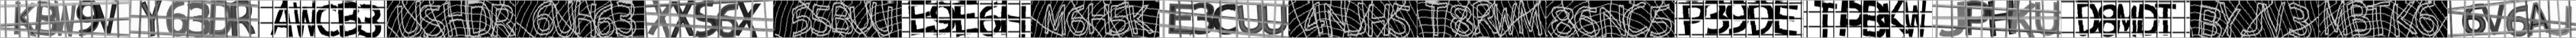3: (187, 2, 209, 38), (1704, 2, 1727, 35), (2290, 3, 2311, 38), (358, 5, 379, 38), (1193, 2, 1214, 35), (616, 2, 636, 36)
4: (1304, 3, 1324, 33)
5: (1388, 3, 1411, 36), (1649, 5, 1671, 38), (792, 3, 810, 38), (810, 5, 830, 36), (1109, 5, 1129, 35)
6: (166, 0, 189, 36), (2415, 3, 2440, 36), (532, 2, 554, 36), (716, 3, 738, 38), (1574, 7, 1598, 36), (979, 3, 1000, 36), (2463, 5, 2486, 35), (2507, 7, 2528, 38), (595, 3, 614, 36), (1066, 7, 1088, 35)
8: (1549, 7, 1575, 36), (1449, 5, 1474, 36), (2098, 3, 2118, 38)
9: (76, 0, 99, 38), (1727, 2, 1750, 35), (933, 3, 954, 36)
a: (273, 0, 292, 38), (2530, 3, 2548, 33)
b: (2346, 3, 2372, 36), (338, 2, 361, 36), (1863, 2, 1884, 38), (36, 2, 57, 36), (2198, 5, 2219, 36), (831, 3, 853, 33)
c: (1623, 3, 1648, 36), (1214, 3, 1237, 35), (319, 3, 340, 36)
d: (1748, 0, 1773, 36), (2077, 2, 2100, 38), (210, 0, 232, 38), (468, 3, 491, 38), (2137, 3, 2160, 36)
e: (953, 0, 979, 36), (908, 0, 933, 35), (1773, 0, 1797, 35), (1171, 3, 1193, 33)
h: (1000, 0, 1027, 38), (1989, 0, 2012, 38), (444, 3, 468, 38), (575, 2, 596, 38), (1088, 5, 1111, 36), (1367, 5, 1390, 36)
j: (1937, 0, 1965, 38), (2241, 3, 2262, 36), (2548, 5, 2569, 36), (1347, 5, 1367, 36)
k: (2012, 0, 2035, 38), (1884, 0, 1906, 38), (15, 0, 34, 38), (1129, 5, 1153, 35), (2394, 3, 2415, 36)
m: (1516, 2, 1543, 35), (2323, 0, 2348, 35), (2118, 3, 2137, 38), (1045, 5, 1066, 36)
n: (1598, 5, 1625, 38), (1324, 3, 1349, 33)
p: (1840, 0, 1863, 38), (1966, 2, 1989, 38), (1681, 3, 1704, 35)
r: (230, 0, 255, 38), (491, 3, 514, 38), (1472, 2, 1495, 35)
s: (693, 0, 716, 38), (421, 3, 444, 36)
t: (1814, 0, 1837, 38), (2367, 2, 2390, 36), (1426, 2, 1447, 36), (2157, 2, 2177, 36)
u: (398, 2, 421, 36), (552, 2, 575, 36), (2035, 2, 2058, 36), (1262, 5, 1288, 35), (1237, 3, 1262, 33), (872, 2, 894, 35), (851, 3, 872, 33)
v: (97, 0, 117, 35), (2264, 2, 2284, 36), (2486, 3, 2502, 33)
w: (292, 0, 315, 38), (1904, 0, 1925, 38), (54, 0, 74, 38), (1495, 2, 1516, 35)
x: (672, 0, 693, 38), (738, 3, 761, 38), (651, 0, 670, 38)
y: (2218, 2, 2239, 38), (141, 2, 161, 36)
